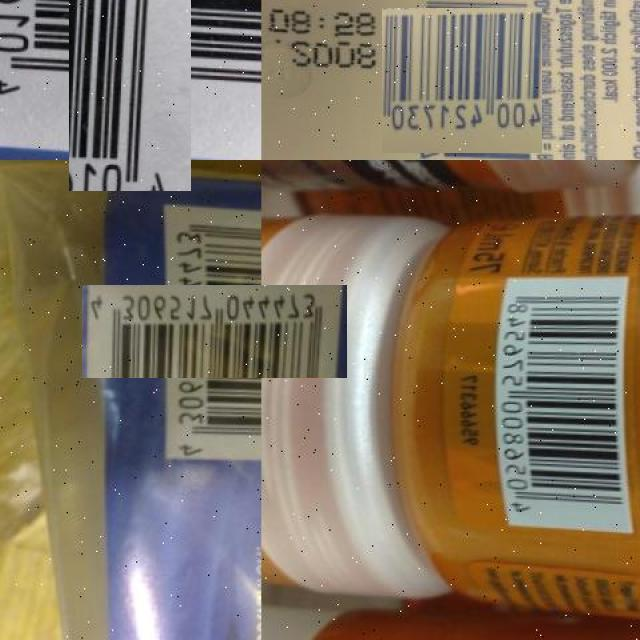Barcode: (494, 272, 627, 529), (125, 242, 304, 422), (34, 0, 226, 156), (386, 3, 538, 156)
